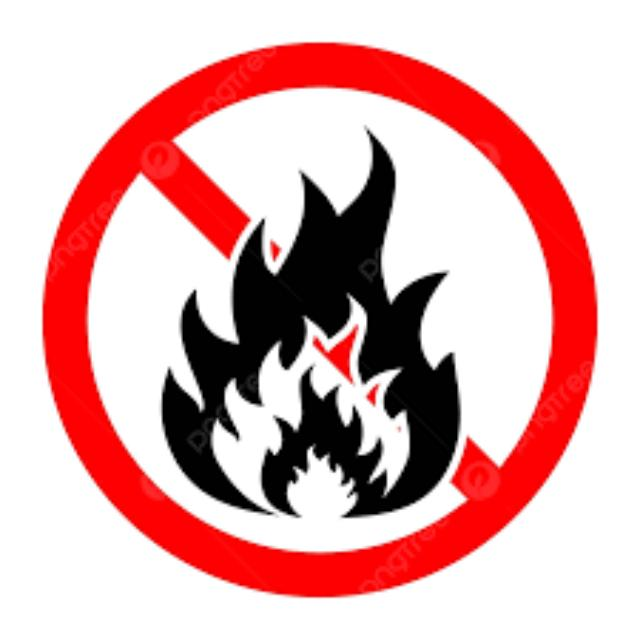cam lua: (46, 46, 594, 594)
